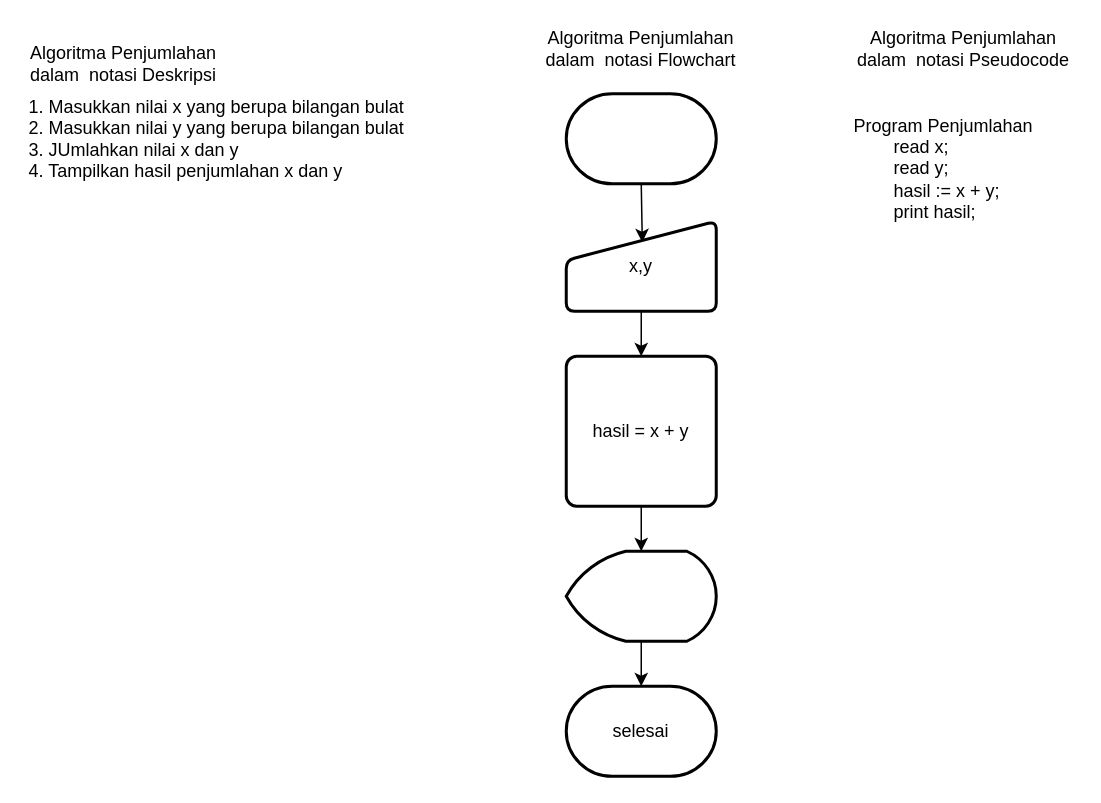
Image size: 1101x803. Some labels were removed from this diagram. The shapes that lost their labels are listed below. From the top down, each one's centre as x and y in pixels, then its label:
At (x=640, y=138): "mulai".
At (x=640, y=595): "hasil".
